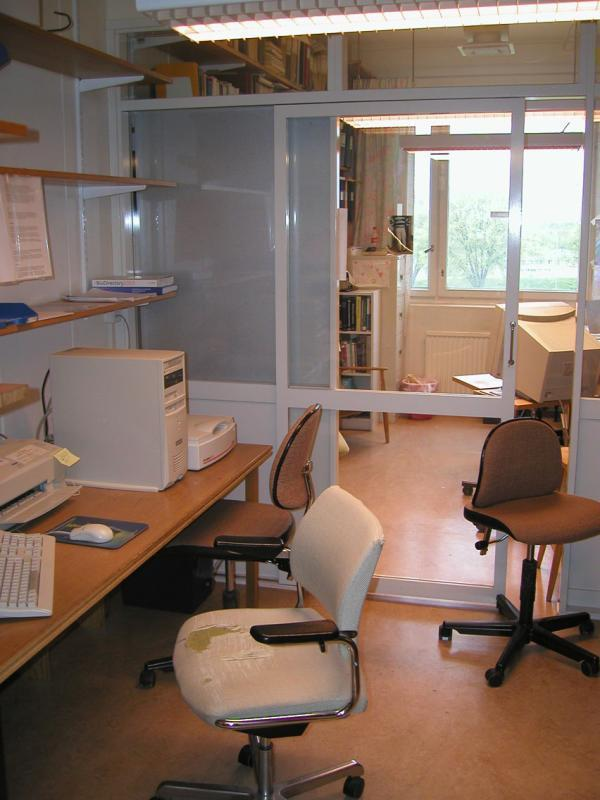Puerta: (305, 102, 522, 587)
